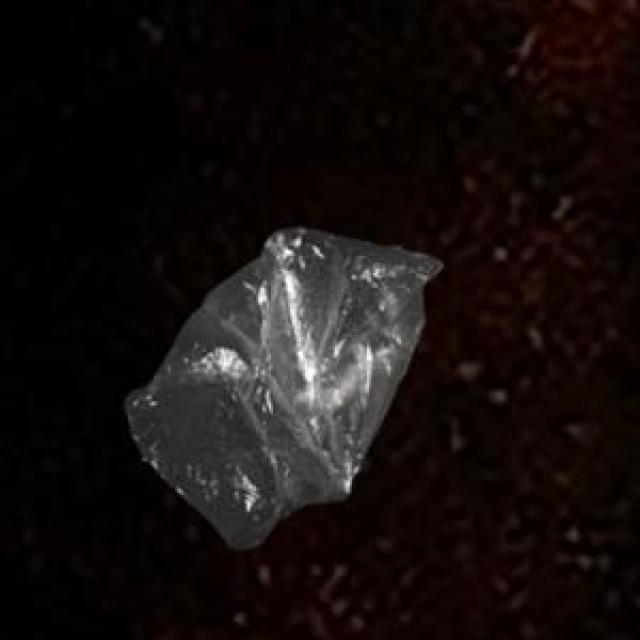Vinyl: (126, 228, 442, 548)
